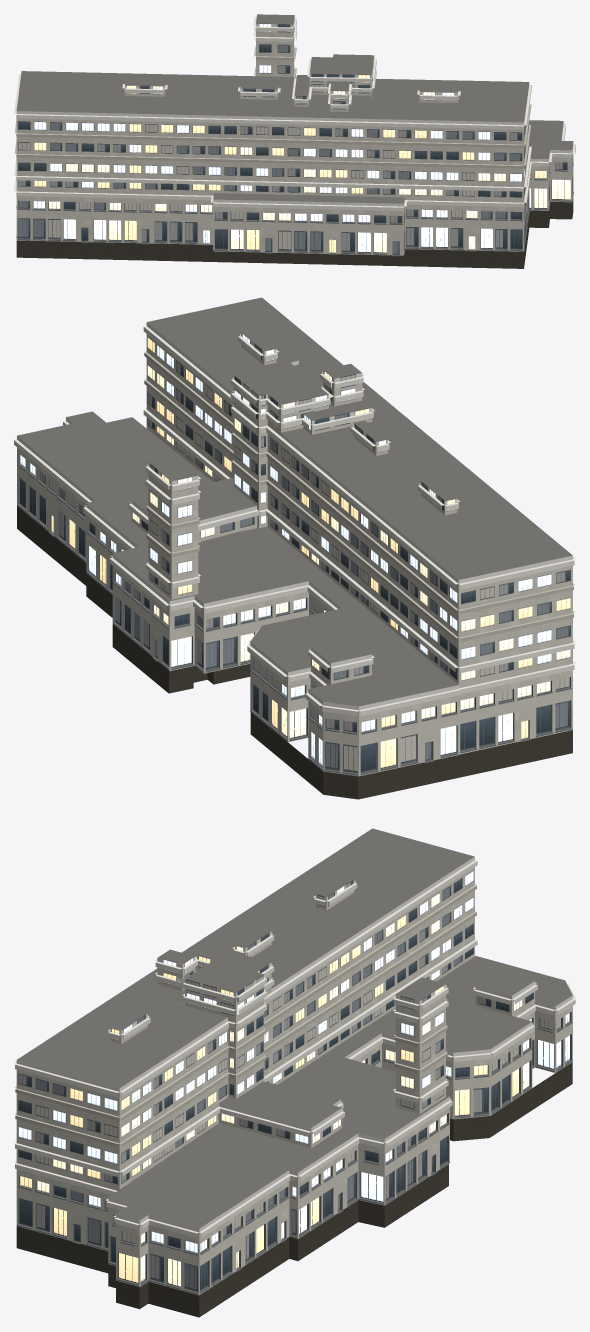
The model's file is crowne.glb.
The picture shows the model from 3 angles, top to bottom: view 1: azimuth 30°, elevation 25°; view 2: azimuth 150°, elevation 25°; view 3: azimuth 270°, elevation 25°; orthographic projection. The views are drawn at different scales.
Parts seen in each view (by area): view 1: crowne; view 2: crowne; view 3: crowne.
Boxes of the visible parts, bbox=[...] form: crowne: bbox=[14, 14, 575, 268]; crowne: bbox=[14, 297, 575, 799]; crowne: bbox=[14, 828, 575, 1317].
Bounding box in the file's own units: 88.39 × 29.24 × 69.25.
3 materials, 3 textured.
